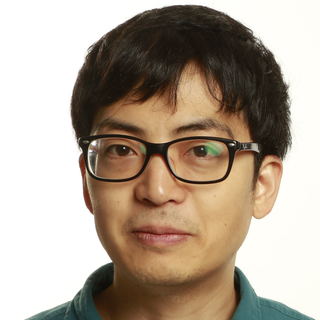eye: (179, 140, 222, 164), (101, 140, 142, 163)
